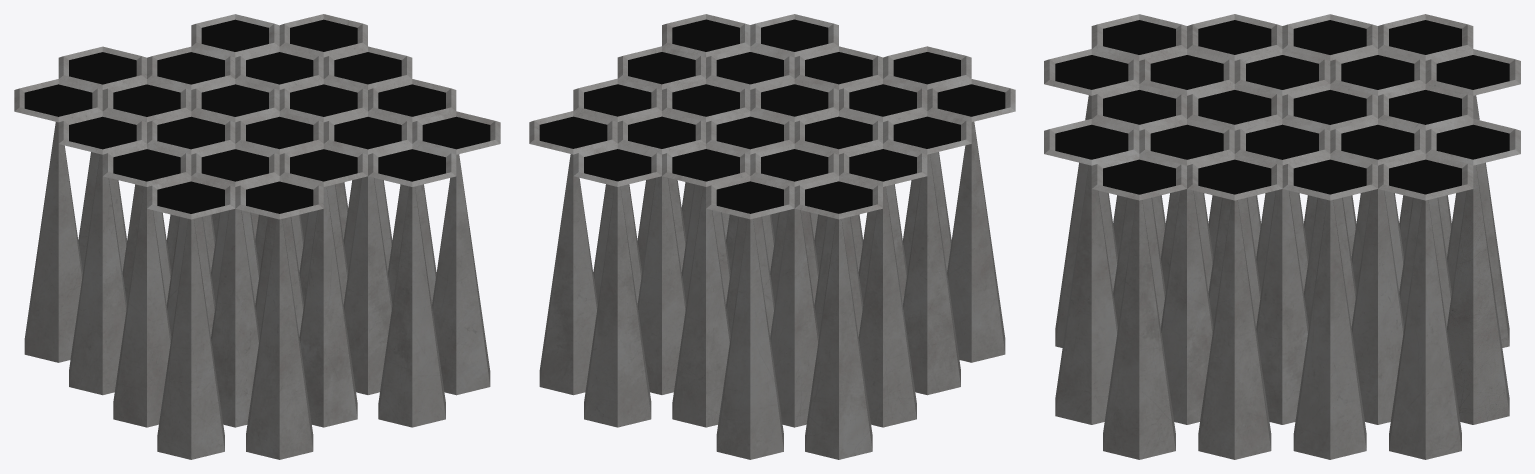
Rendered from kolczatka.FBX.
The picture shows the model from 3 angles, left to right: view 1: azimuth 30°, elevation 25°; view 2: azimuth 150°, elevation 25°; view 3: azimuth 270°, elevation 25°; orthographic projection. The views are drawn at different scales.
Parts seen in each view (by area): view 1: kolczatkaKolce, kolczatkaDziura, kolczatkaBase; view 2: kolczatkaKolce, kolczatkaDziura, kolczatkaBase; view 3: kolczatkaKolce, kolczatkaDziura, kolczatkaBase.
Part boxes in pixels (box(x1,y1,x2,y2)): kolczatkaKolce: box(24, 122, 490, 459); kolczatkaDziura: box(24, 19, 490, 213); kolczatkaBase: box(14, 14, 500, 219); kolczatkaKolce: box(539, 121, 1005, 459); kolczatkaDziura: box(539, 19, 1005, 213); kolczatkaBase: box(529, 14, 1015, 219); kolczatkaKolce: box(1055, 95, 1509, 459); kolczatkaDziura: box(1055, 20, 1509, 194); kolczatkaBase: box(1044, 14, 1520, 200).
Size of the model in its own units: 80.58 by 54.14 by 87.23.
Materials: 2 (1 with a texture image).
